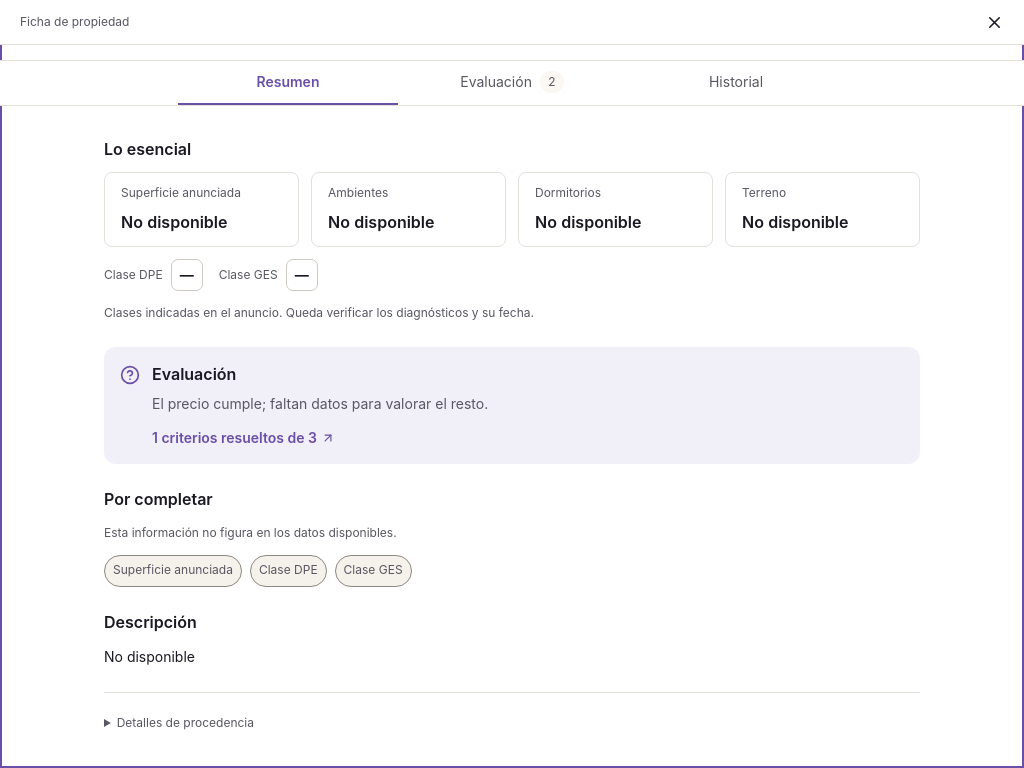
it: PropertyDossier › keeps the server score separate from coverage and resolves names from the evaluated recipe version
This screenshot has width=1024, height=768.
(page scrolled)
Click the button "1 criterios resueltos de 3".
click(244, 438)  # box 152,427 -> 335,448
(page scrolled)
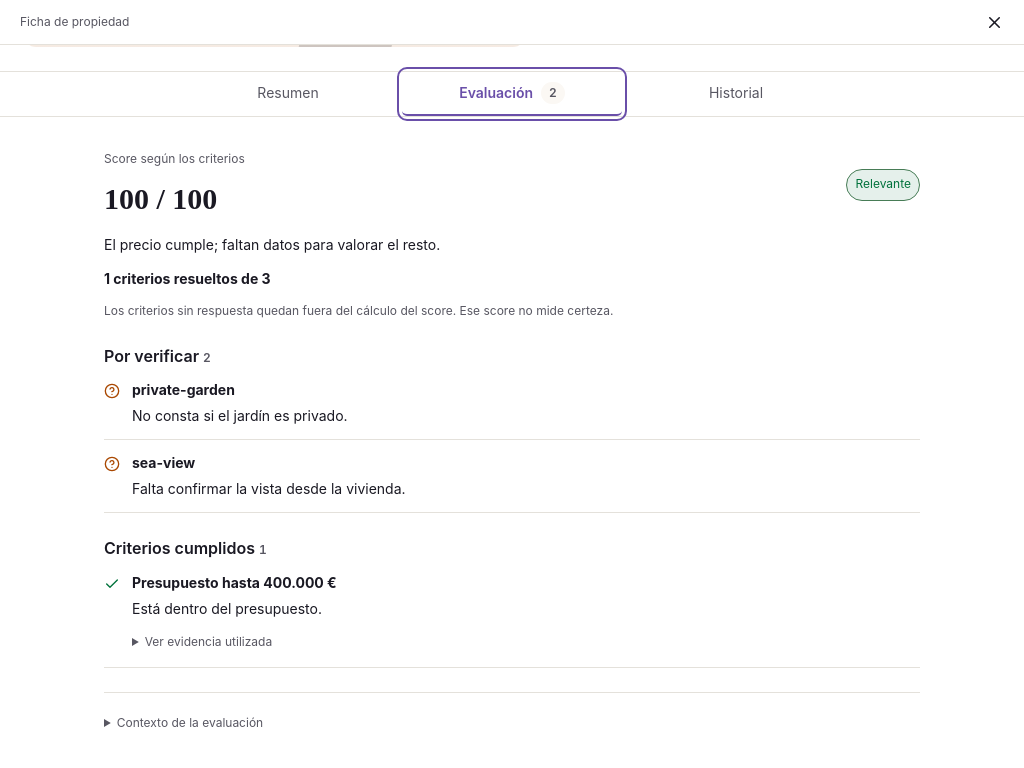
Expected: the text "100 / 100" is shown, 104,182 -> 217,215
Expected: the heading "Por verificar 2" is shown, 104,346 -> 211,366
Expected: the heading "Criterios cumplidos 1" is shown, 104,538 -> 267,558
